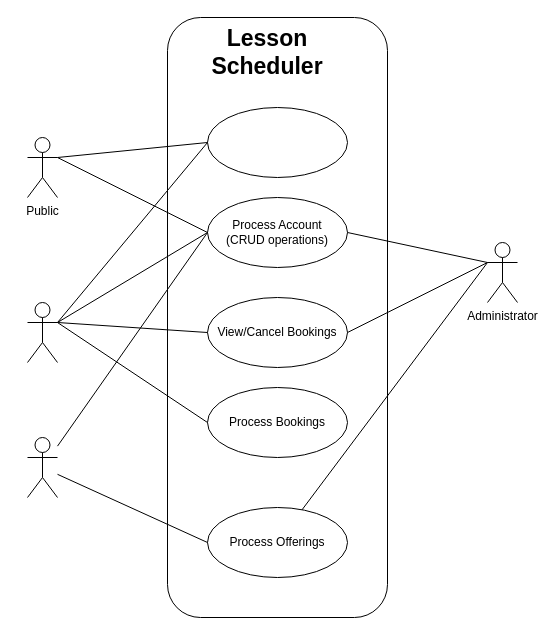
Some shapes in this 555 by 635 pixel diagram are drawn without their labels. Each missing label, with the box of its shape:
Client: (26, 302, 58, 362)
Instructor: (26, 436, 58, 498)
View available offerings: (206, 106, 348, 178)
